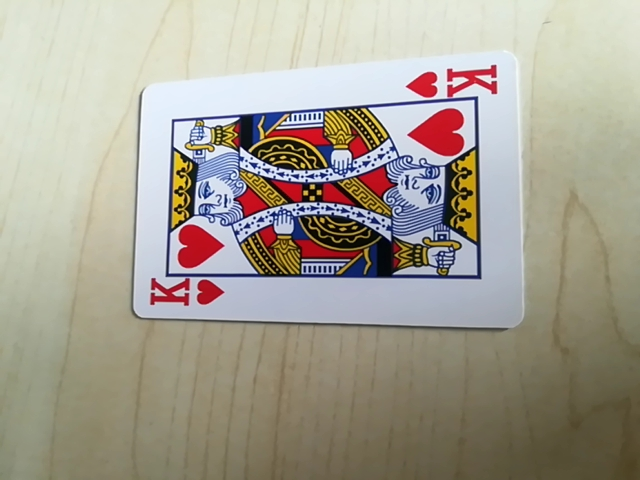hx k: (407, 60, 505, 104), (145, 274, 226, 315)
